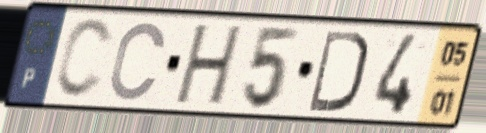4: (370, 31, 420, 118)
5: (241, 24, 302, 112)
C: (51, 16, 116, 103), (106, 19, 169, 104)
D: (305, 27, 371, 115)
H: (170, 22, 247, 109)
